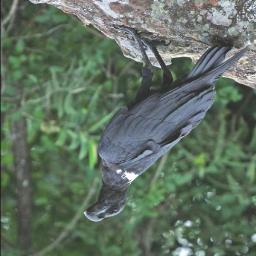Crow: (79, 24, 248, 225)
